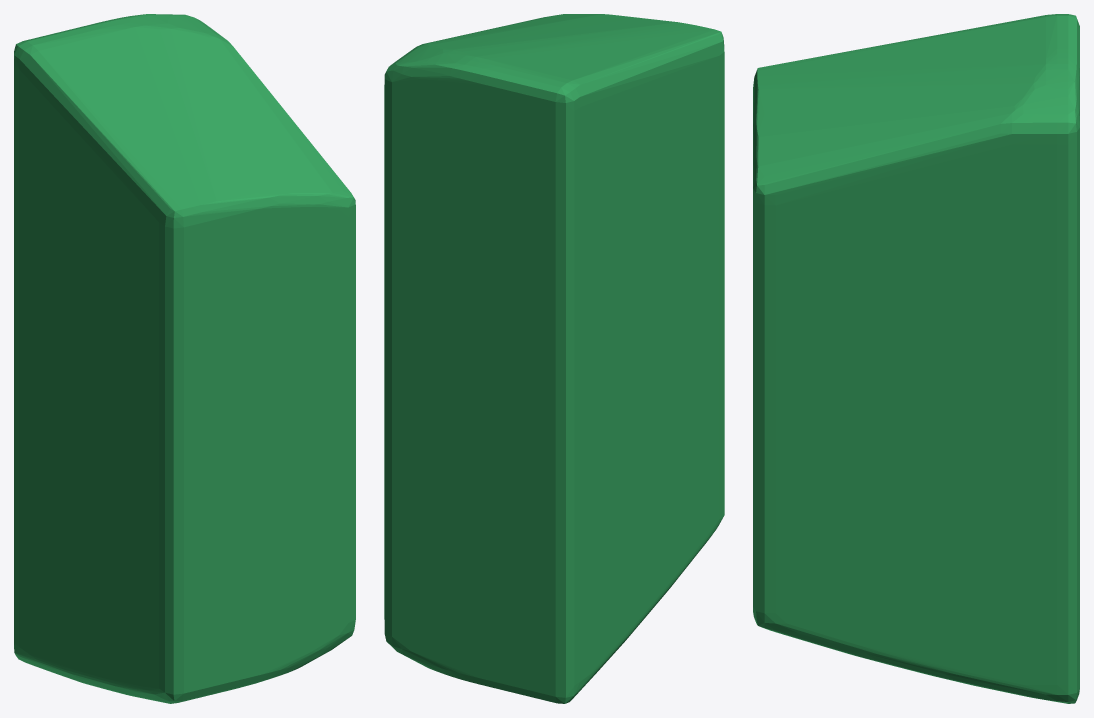
File: right_th_distal_pst_part_10.obj
3 renders of one model, left to right at view 1: azimuth 30°, elevation 25°; view 2: azimuth 150°, elevation 25°; view 3: azimuth 270°, elevation 25°, orthographic.
Bounding box in the file's own units: 5.6 × 17.28 × 8.23.
